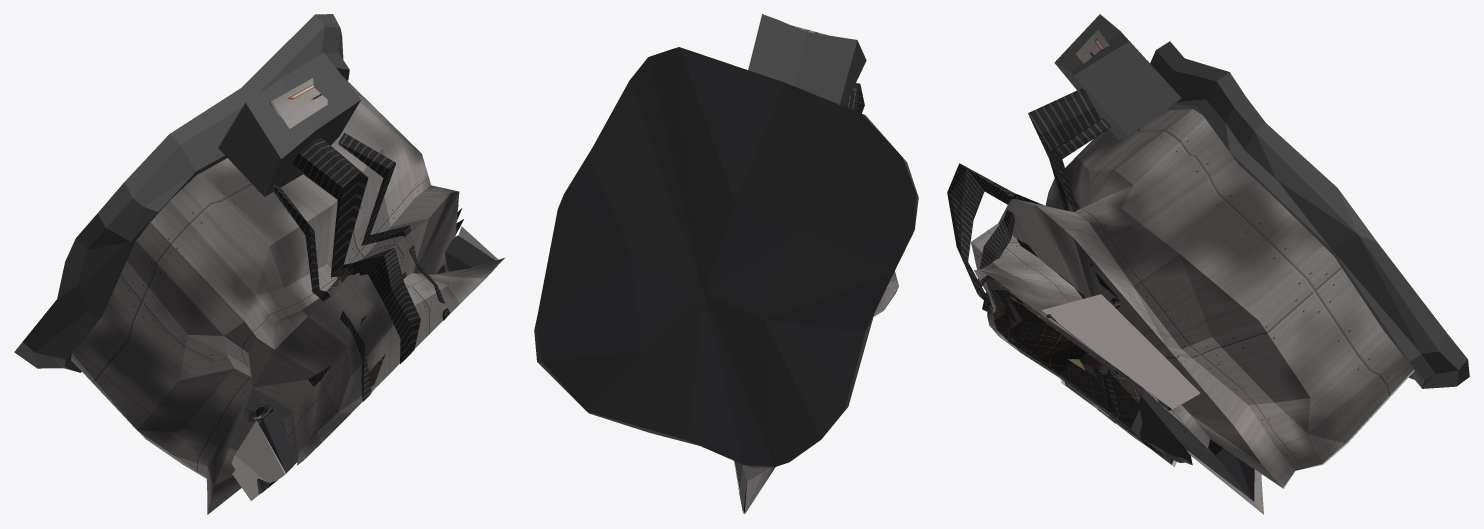
Rendered from crashed_pod_v1_s1.fbx.
3 views of the same model, side by side, from view 1: azimuth 30°, elevation 25°; view 2: azimuth 150°, elevation 25°; view 3: azimuth 270°, elevation 25° (orthographic). The views are drawn at different scales.
Parts seen in each view (by area): view 1: crashed_pod_v1_s1_lod0; view 2: crashed_pod_v1_s1_lod0; view 3: crashed_pod_v1_s1_lod0.
Boxes of the visible parts, x1,y1,x2,y2 form: crashed_pod_v1_s1_lod0: [14, 14, 505, 514]; crashed_pod_v1_s1_lod0: [534, 14, 918, 514]; crashed_pod_v1_s1_lod0: [947, 14, 1469, 514].
Size of what is drawn, in the model's own units: 133 by 169 by 162.
3 materials, 3 textured.
